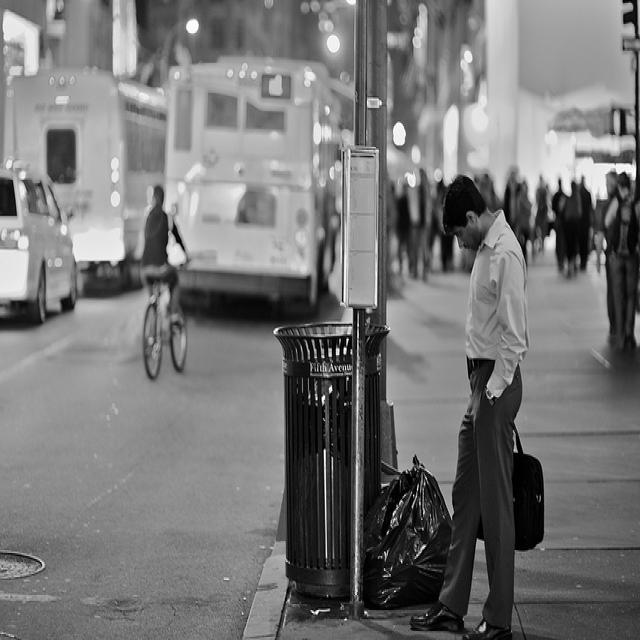Vehicle: (165, 63, 342, 316), (6, 68, 164, 292), (2, 161, 82, 329)
